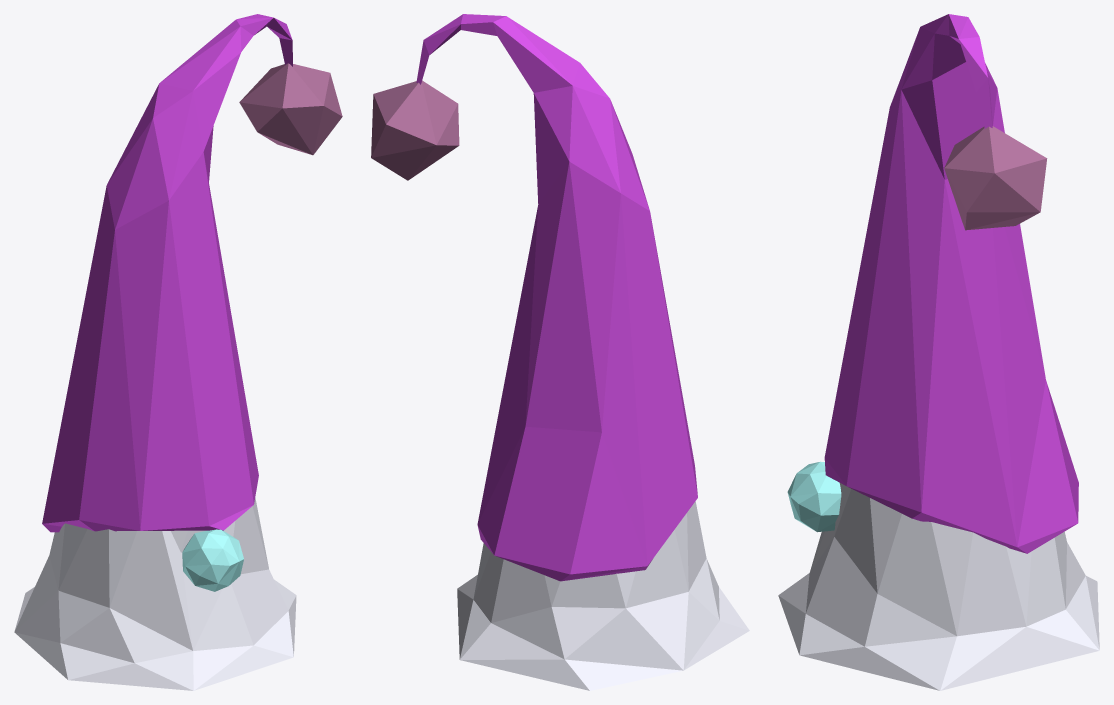
File: Gnome2.fbx
3 renders of one model, left to right at view 1: azimuth 30°, elevation 25°; view 2: azimuth 150°, elevation 25°; view 3: azimuth 270°, elevation 25°, orthographic. The views are drawn at different scales.
Parts seen in each view (by area): view 1: Circle.001, Circle, Sphere, Sphere.001; view 2: Circle.001, Circle, Sphere; view 3: Circle.001, Circle, Sphere, Sphere.001.
Boxes of the visible parts, box(x1,y1,x2,y2) form: Circle.001: box(42, 14, 292, 532); Circle: box(14, 498, 296, 690); Sphere: box(239, 63, 342, 155); Sphere.001: box(182, 529, 243, 591); Circle.001: box(416, 14, 697, 581); Circle: box(457, 501, 749, 690); Sphere: box(371, 80, 459, 180); Circle.001: box(824, 14, 1078, 553); Circle: box(778, 483, 1099, 690); Sphere: box(944, 126, 1047, 230); Sphere.001: box(787, 461, 841, 532).
Bounding box in the file's own units: 305 × 533 × 240.
